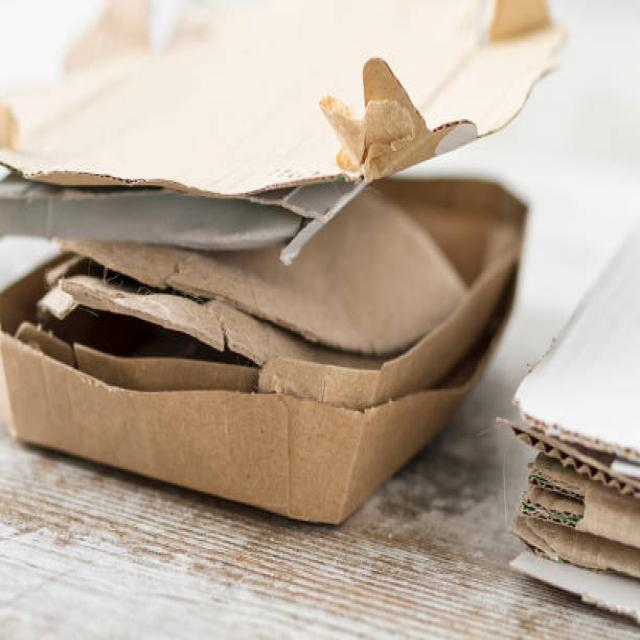electronic: (1, 0, 637, 627), (0, 172, 528, 526), (0, 0, 567, 257), (497, 219, 639, 626), (508, 547, 639, 626)
